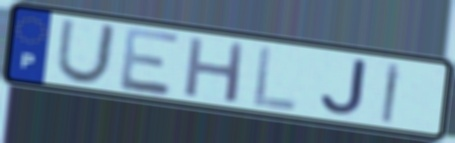E: (118, 24, 184, 99)
H: (181, 34, 249, 106)
I: (379, 60, 405, 126)
J: (317, 58, 369, 118)
L: (249, 43, 300, 114)
U: (53, 17, 120, 87)
